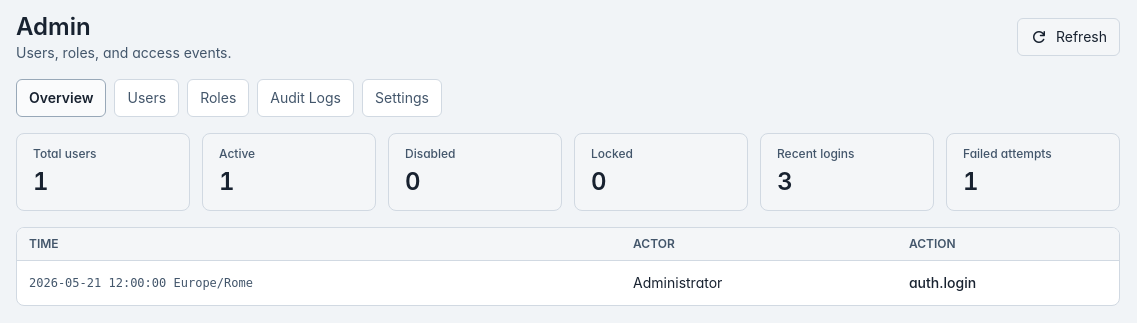
AdminDashboard › renders audit names and normalizes audit times with the configured timezone
Expected: the text "2026-05-21 12:00:00 Europe/Rome" is shown, [17, 260, 621, 305]
Expected: the text "Administrator" is shown, [621, 260, 897, 305]
Click the tab "Audit Logs": [306, 98] box [257, 79, 354, 117]
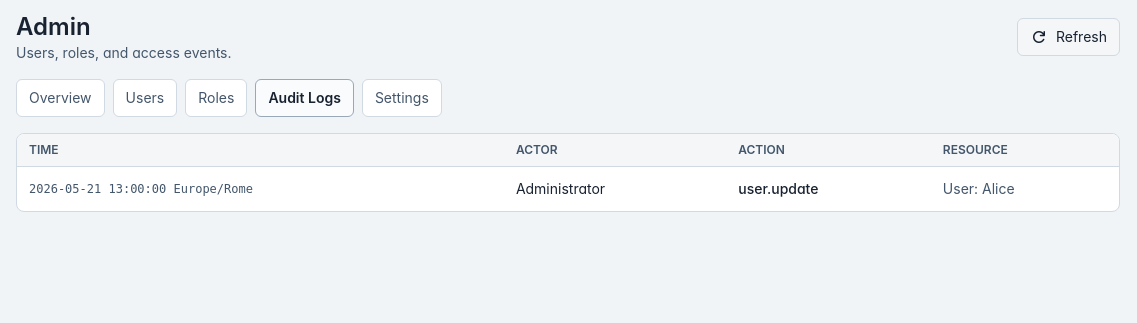
Result: the text "2026-05-21 13:00:00 Europe/Rome" is shown at [17, 166, 504, 211]
Result: the text "User: Alice" is shown at [931, 166, 1119, 211]
